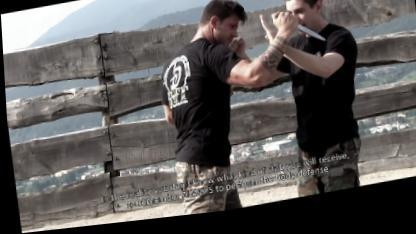knife: (268, 10, 324, 57)
